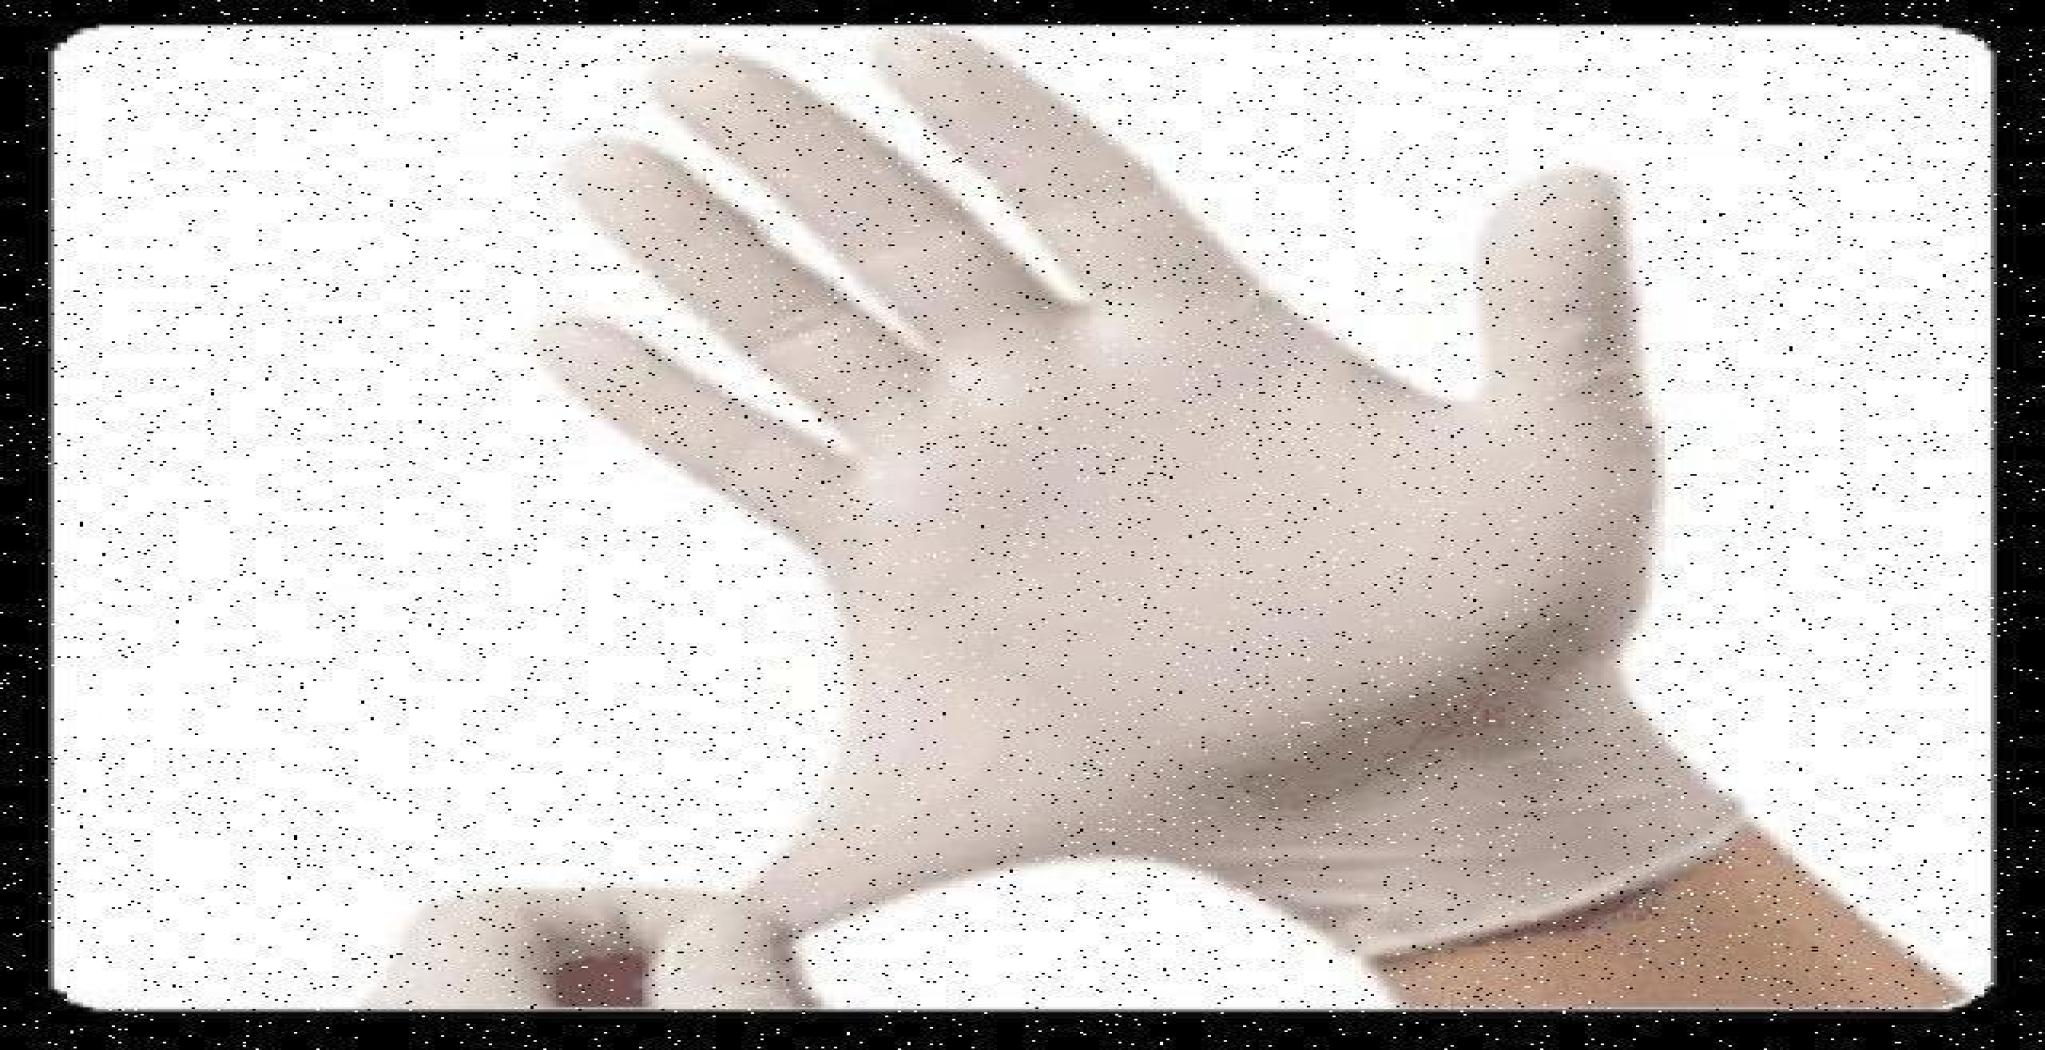gloved: (501, 42, 1745, 930)
